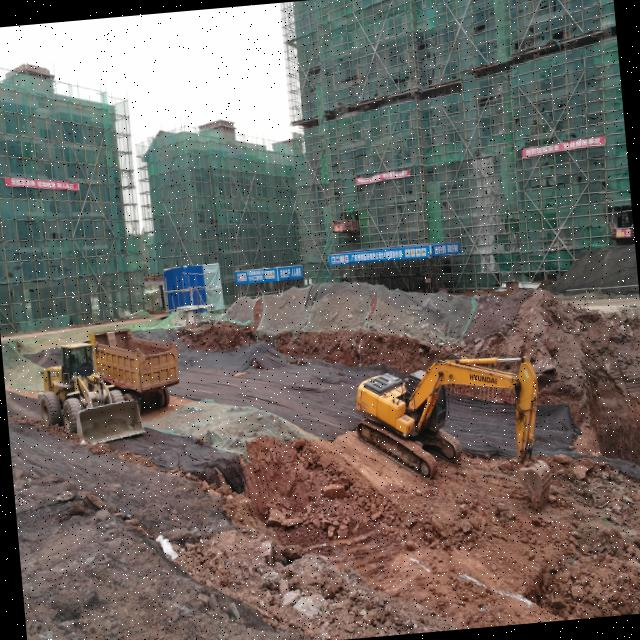Dump Truck: (88, 322, 182, 413)
Excavator: (352, 340, 558, 524)
Loader: (35, 346, 144, 459)
